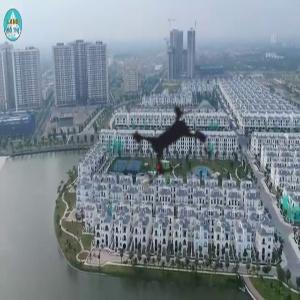drone: (100, 75, 244, 219)
